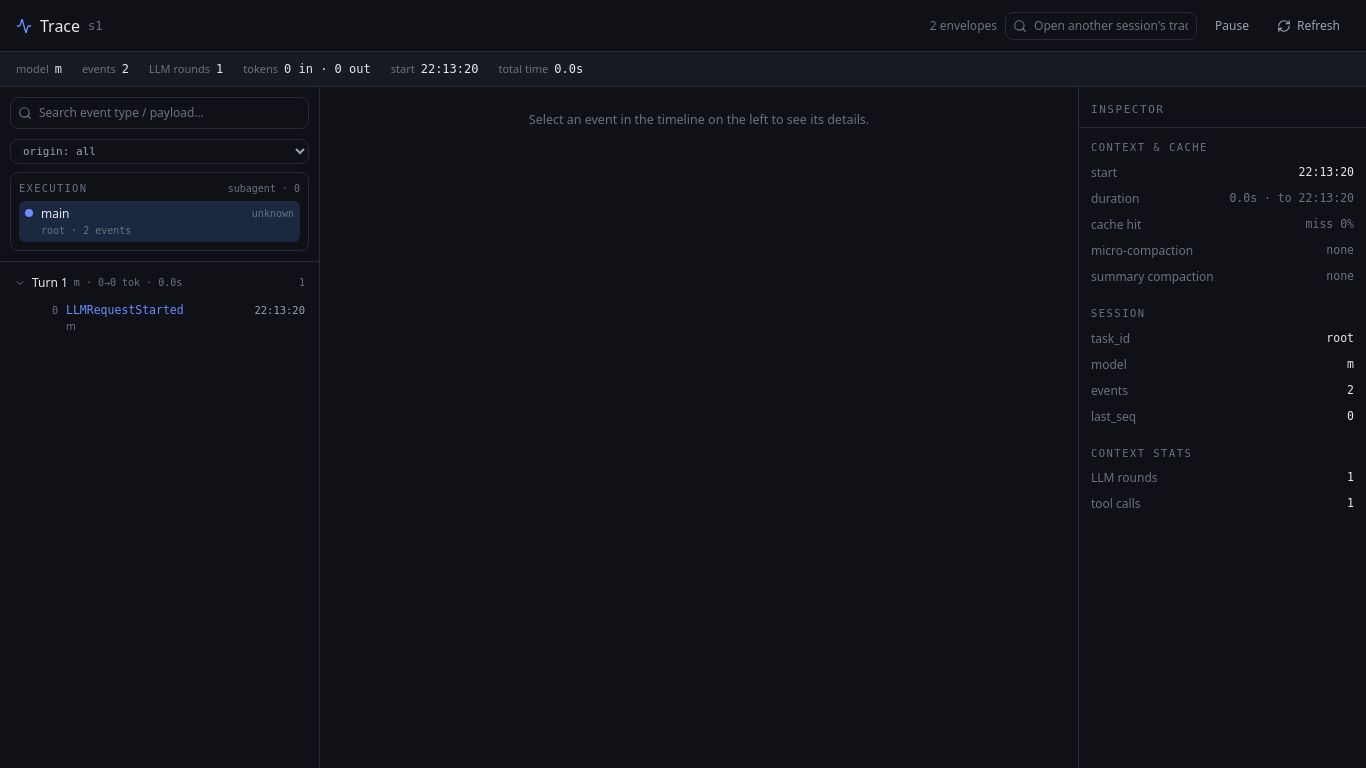
Test case: the trace page › passes the accumulated cursor map back on the next request
Expected: the text "Turn 1" is shown, [32,274,68,292]
Click the button "Refresh" at [1308, 26], box [1267,12,1350,40]
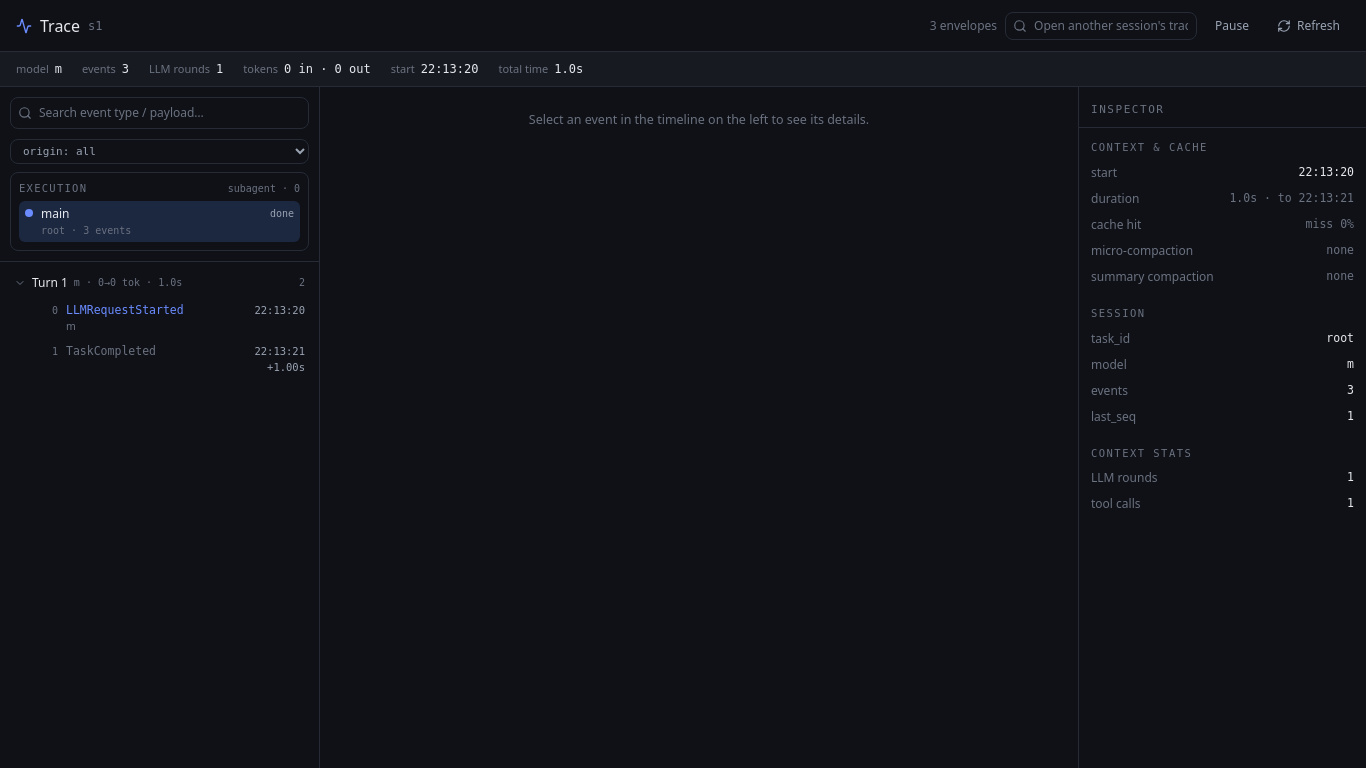
Expected: the text "TaskCompleted" is shown, [66,343,156,360]
